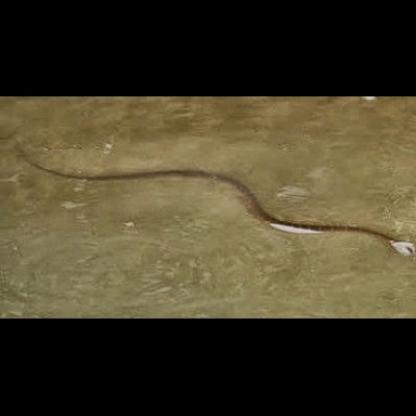Snake: (4, 167, 416, 258)
